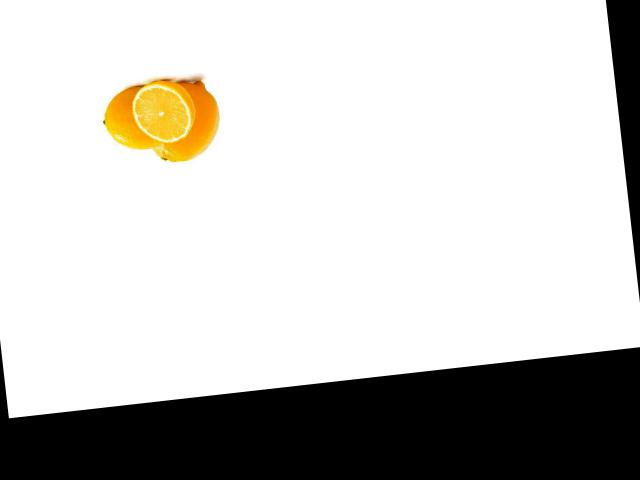lemon: (100, 79, 180, 155)
